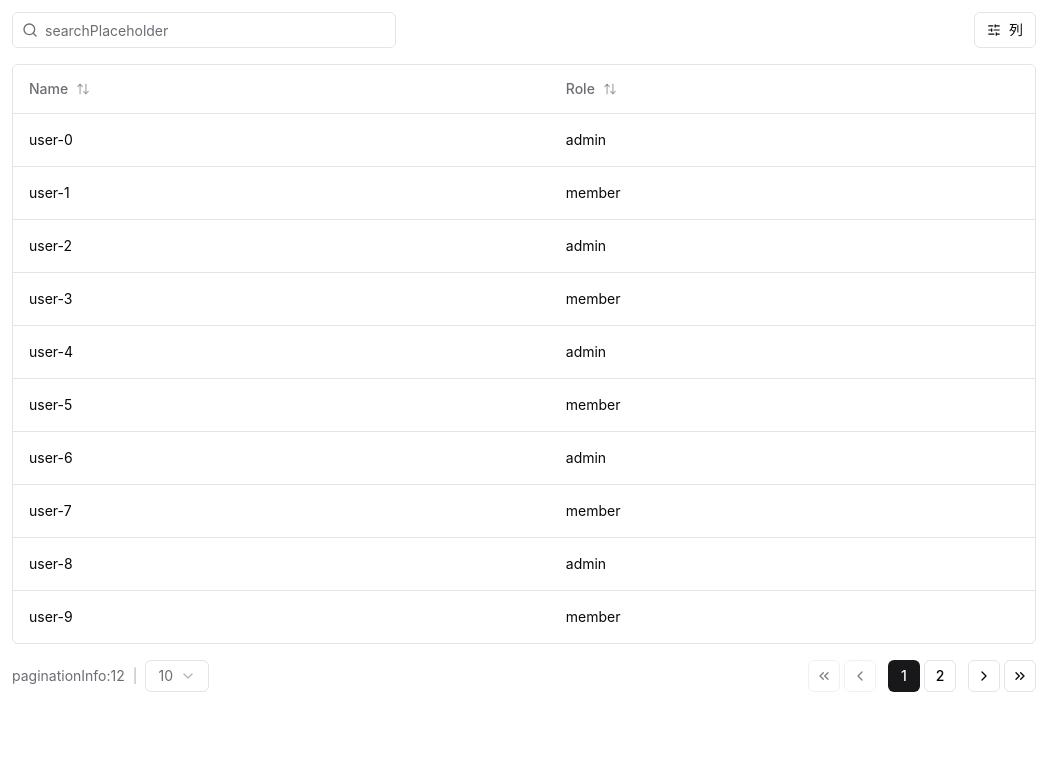
Test: DataTable › 搜索过滤命中行
This screenshot has width=1048, height=780.
Type "user-1" into the field with placeholder "searchPlaceholder".
click(204, 30); type("user-1")  # box [12,12,396,48]
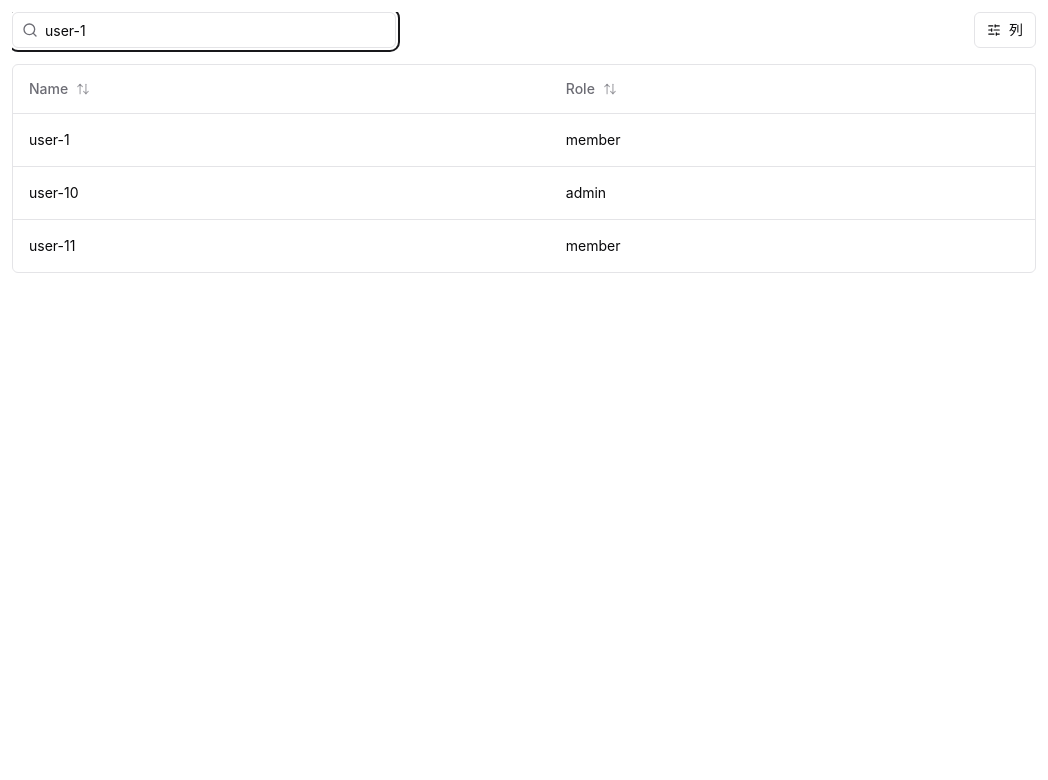
Check: the text "user-1" is shown, box [13,113,550,166]
Check: the text "user-0" is gone
